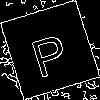P: (25, 25, 72, 79)
